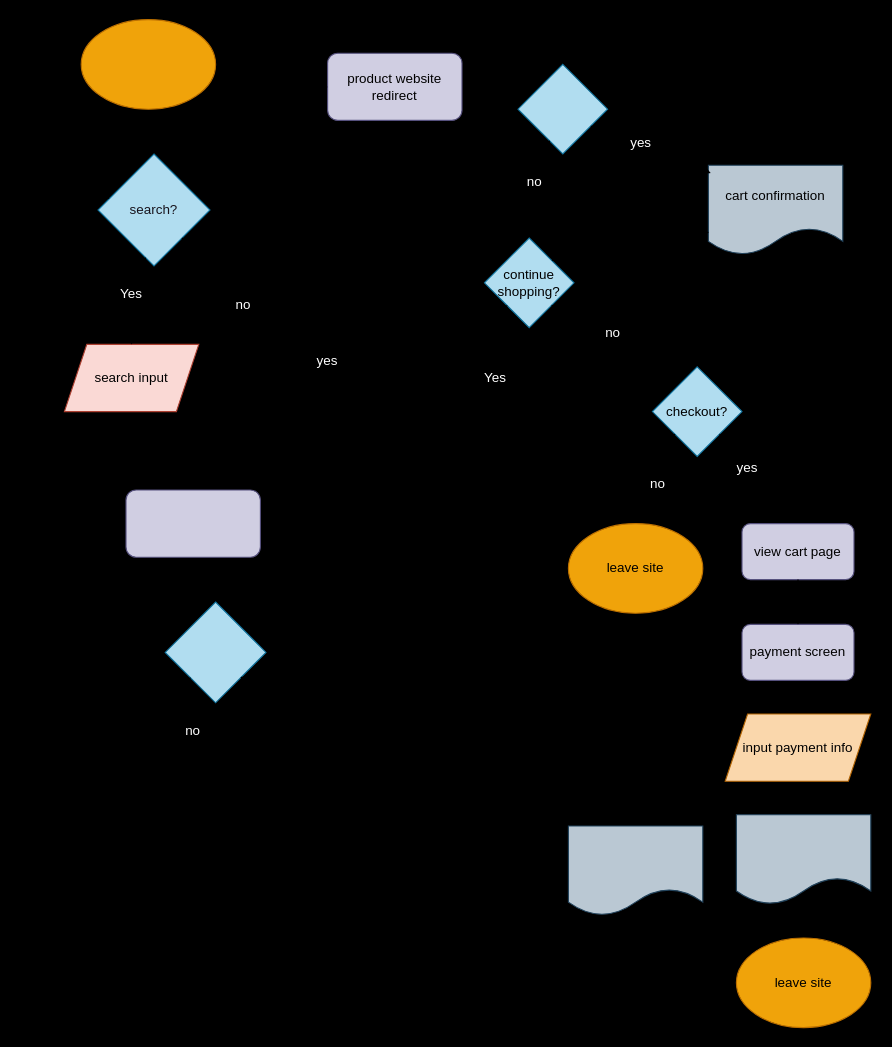
The diagram is 892 pixels wide and 1047 high, and some of its shapes have lost their labels. The centre of each missing label's shape, as x and y in pixels:
add to cart?: (x=562, y=108)
begin looking at products: (x=192, y=523)
email confirmation: (x=635, y=870)
order confirmation: (x=803, y=859)
User enters website: (x=148, y=63)
view product?: (x=215, y=652)
